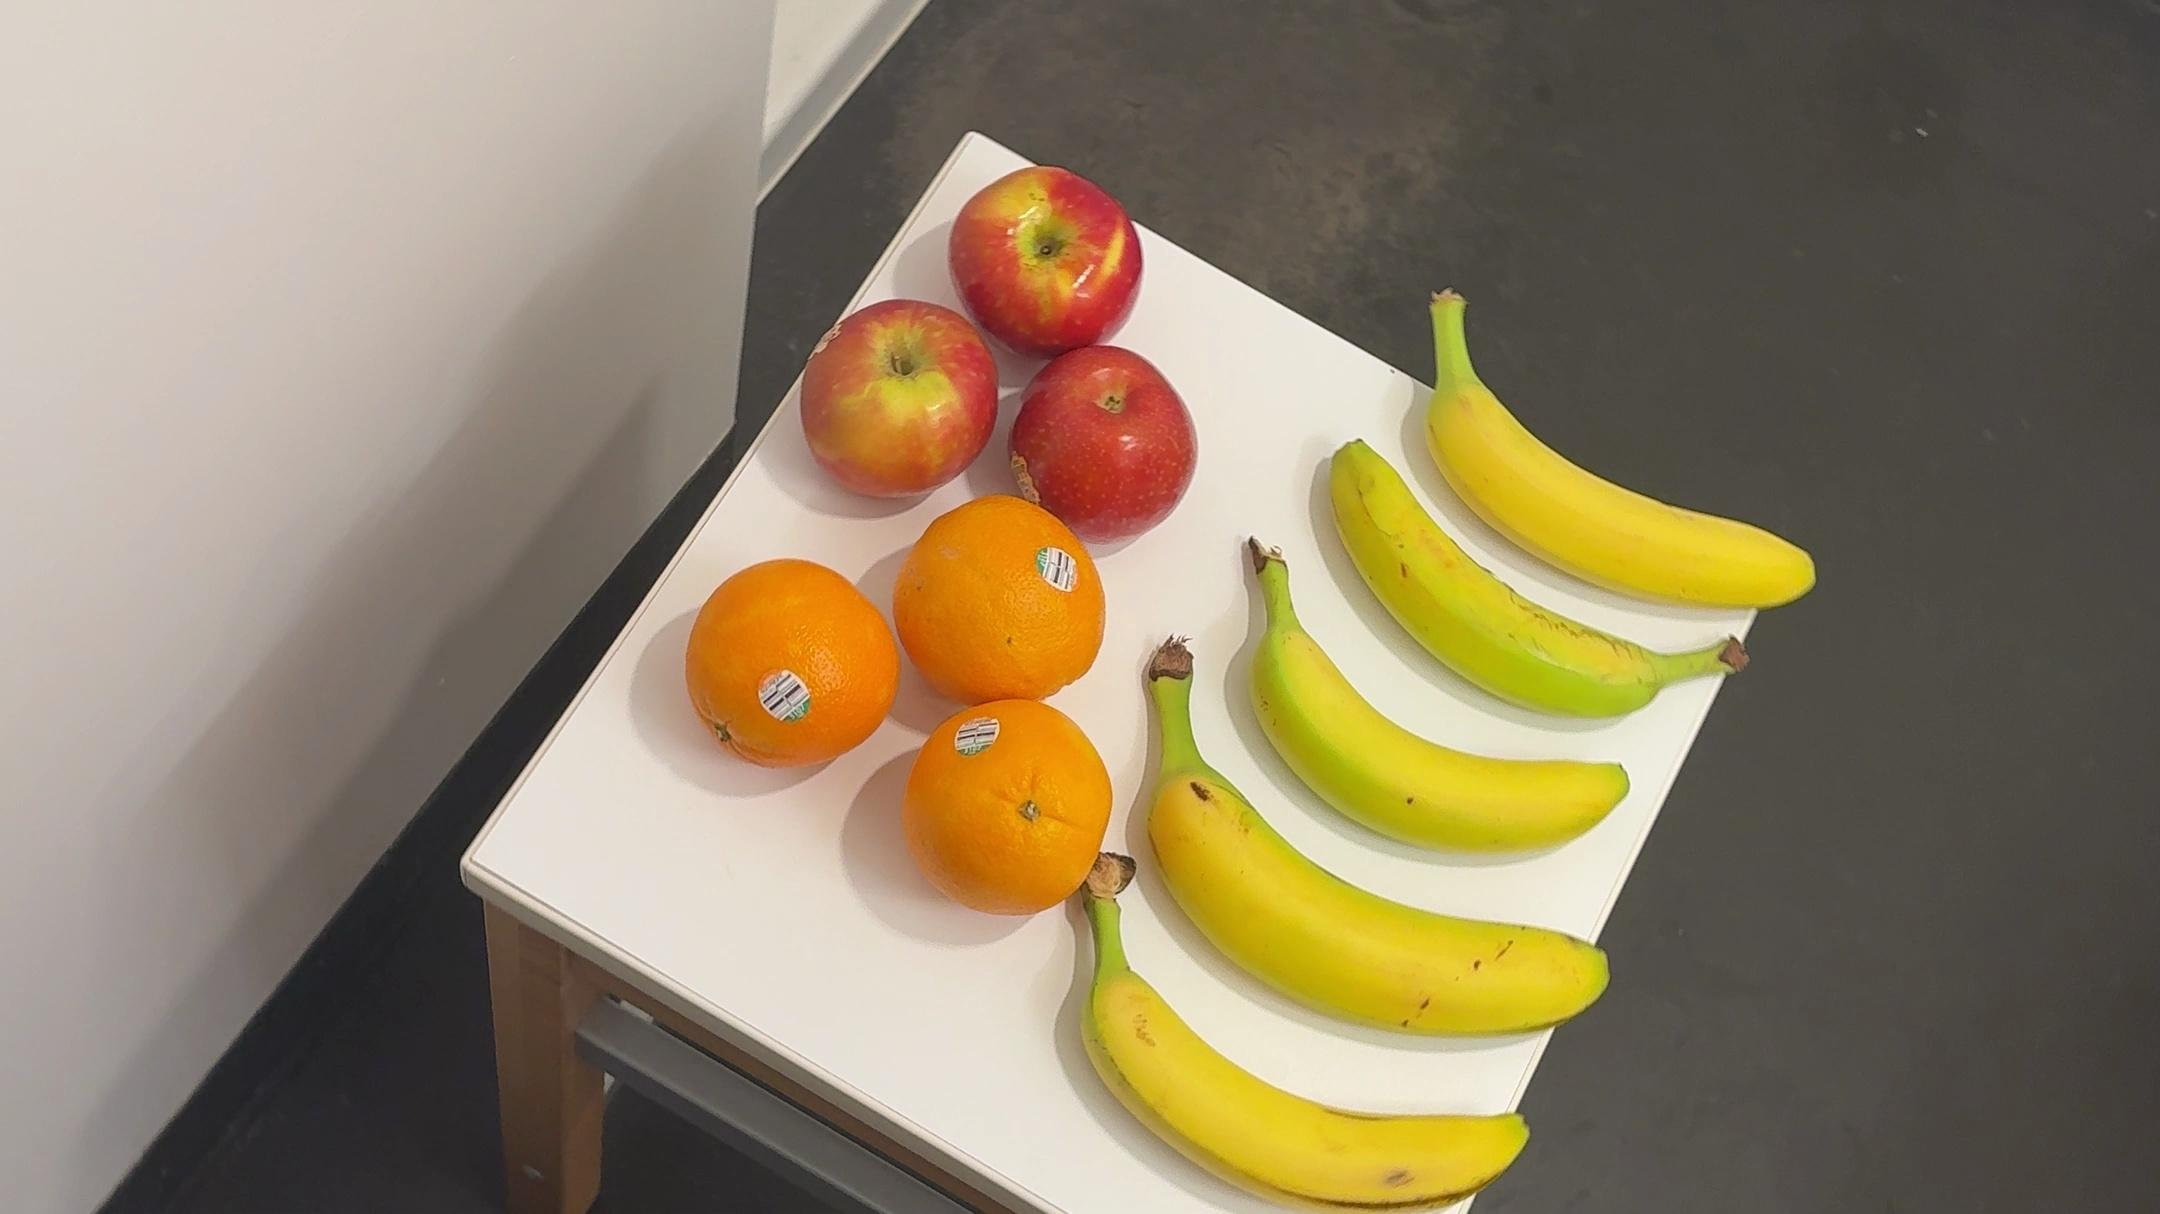apple: (952, 160, 1150, 358), (1007, 347, 1199, 539), (807, 306, 994, 502)
banana: (1113, 634, 1624, 1036), (1041, 856, 1532, 1214), (1393, 286, 1825, 613), (1214, 528, 1633, 858), (1319, 439, 1754, 721)
orange: (899, 700, 1116, 935), (674, 562, 898, 779), (898, 503, 1122, 714)
